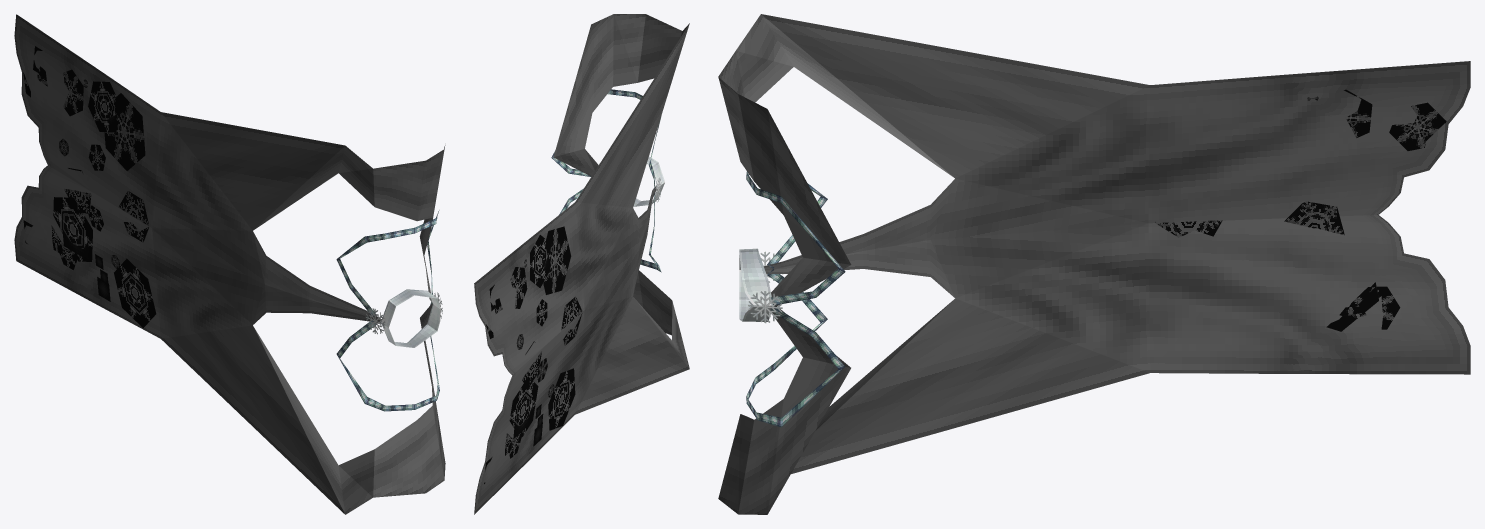
Rendered from options1163.obj.
3 renders of one model, left to right at view 1: azimuth 30°, elevation 25°; view 2: azimuth 150°, elevation 25°; view 3: azimuth 270°, elevation 25°, orthographic. The views are drawn at different scales.
Parts seen in each view (by area): view 1: options1163; view 2: options1163; view 3: options1163.
Boxes of the visible parts, x1,y1,x2,y2 form: options1163: (14, 14, 445, 514); options1163: (474, 14, 689, 514); options1163: (718, 14, 1470, 514).
Size of the model in its own units: 0.744 by 1.56 by 2.26.
Materials: 2 (2 with a texture image).
